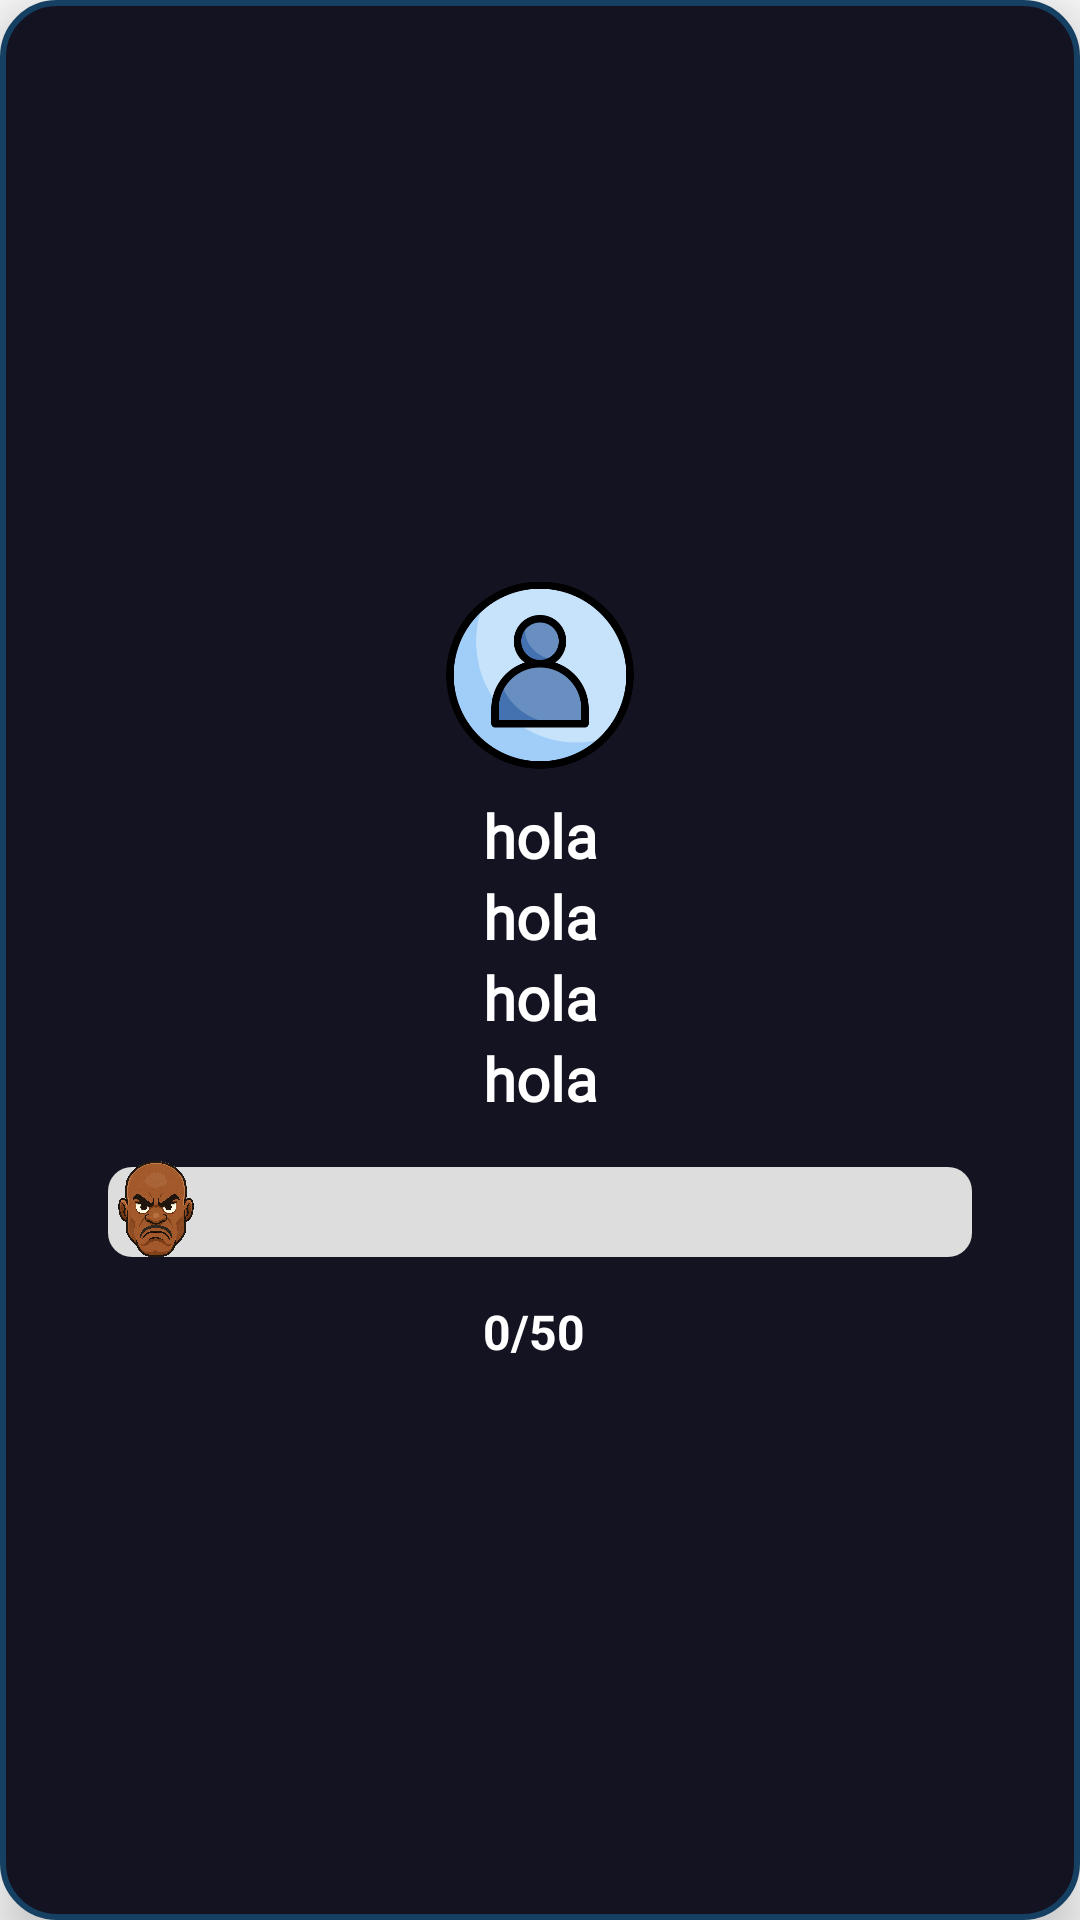

Icons on this 1080px×1920px Android screen, each with its box as (x1, y1, x2, y2):
profile: (446, 582, 634, 769)
